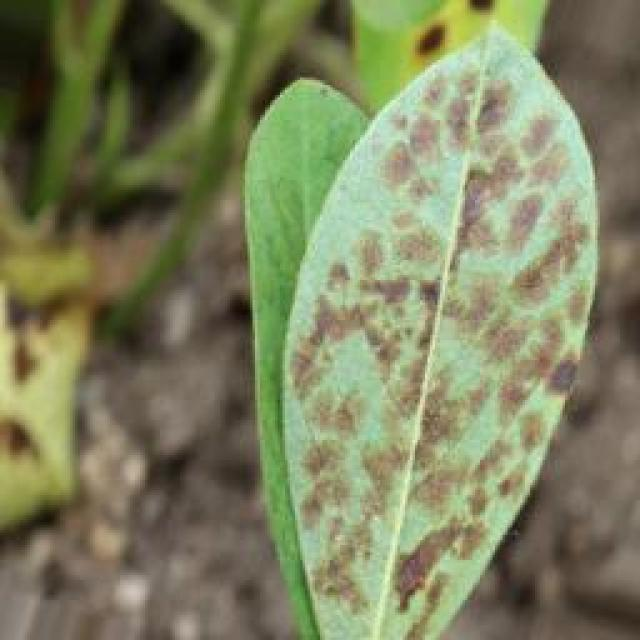Whitefly: (258, 18, 590, 640)
